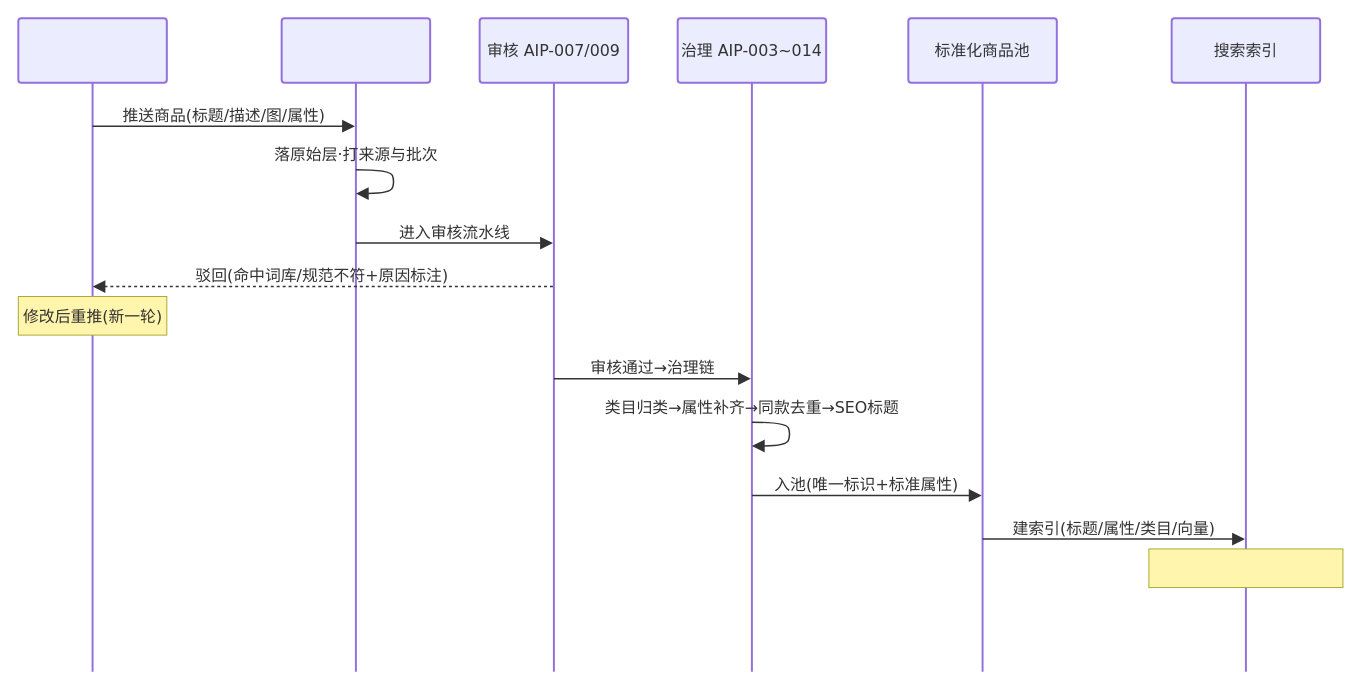
The diagram is 1360 pixels wide and 689 high, and some of its shapes have lost their labels. The shapes that lost their labels are listed below. From the top down, each one's box as (x1, y1, x2, y2) in pixels, then its label:
(17, 17, 167, 672): 电商/供应商
(280, 17, 431, 672): 商品库 AIP-001/002
(1148, 548, 1343, 588): 此刻起采购人可搜到该商品
